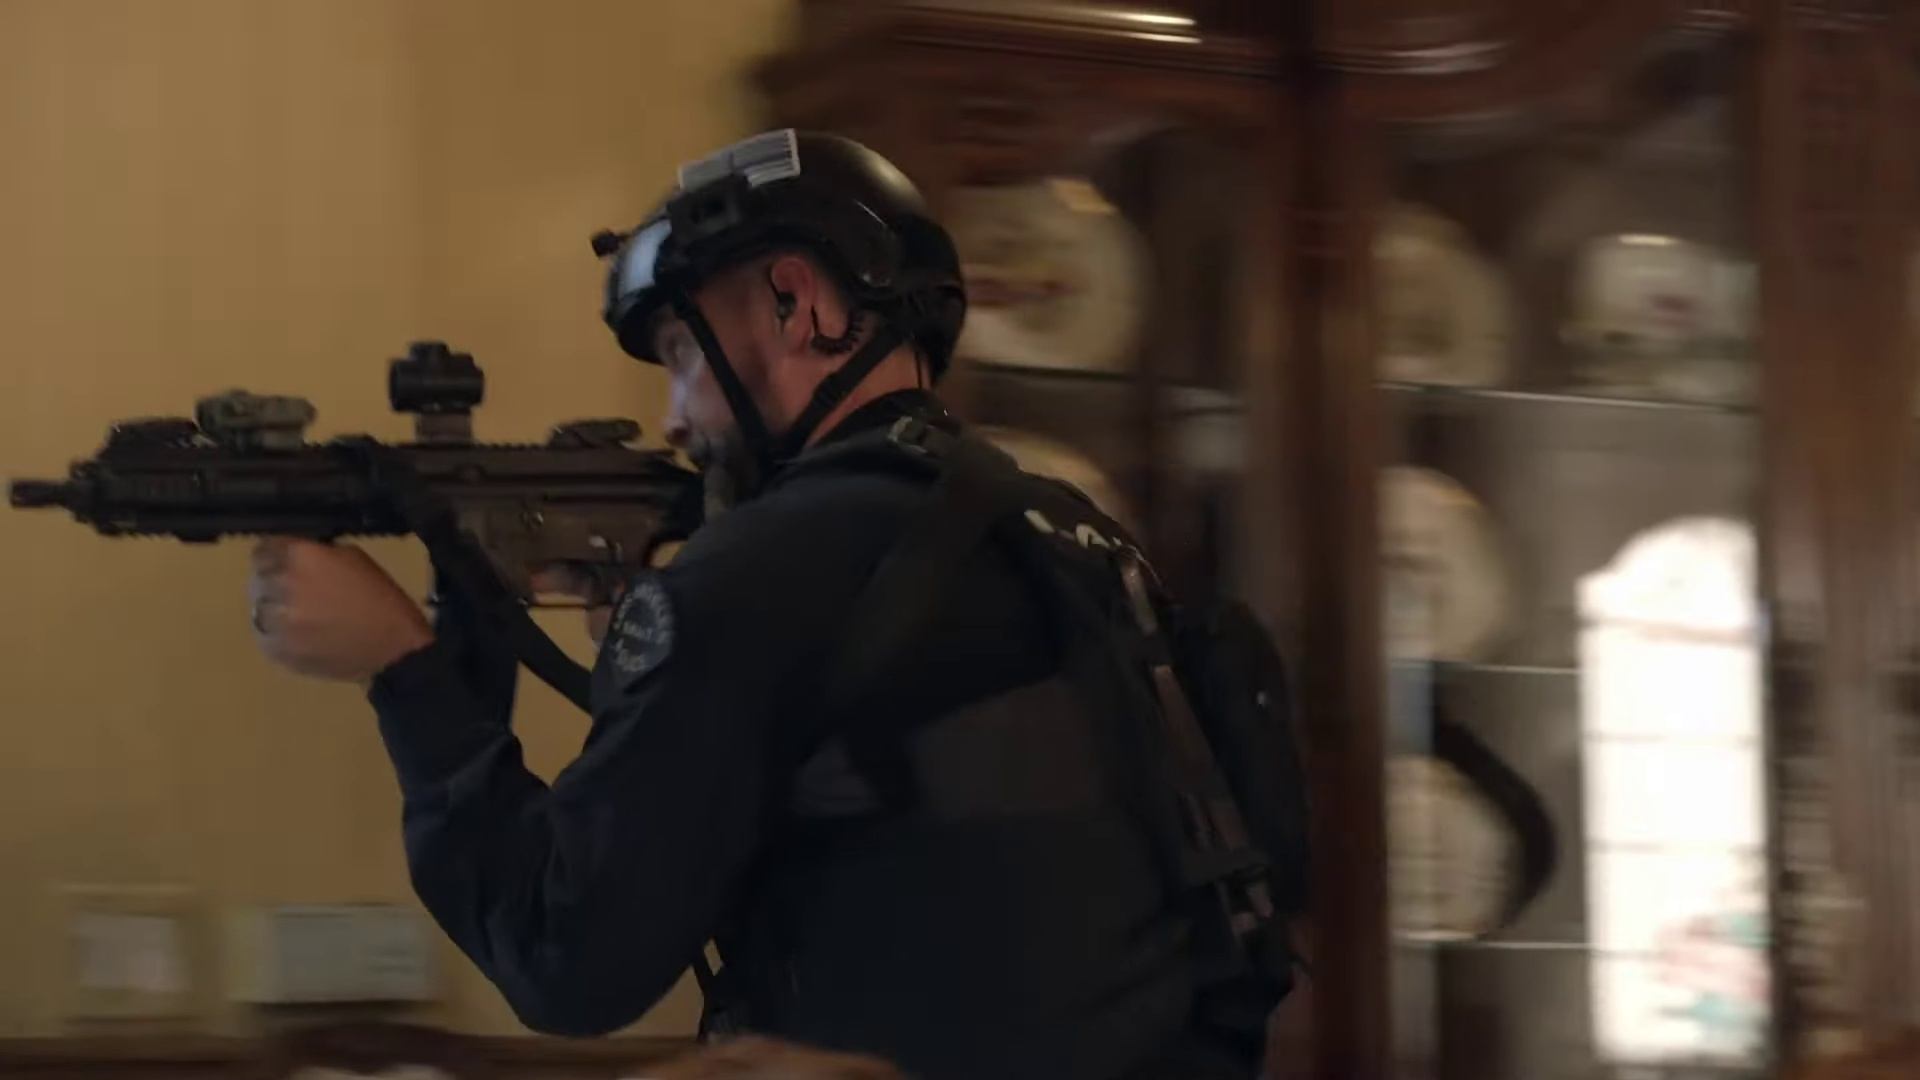gun: (0, 338, 709, 687)
p_w_gun: (0, 119, 1294, 1080)
